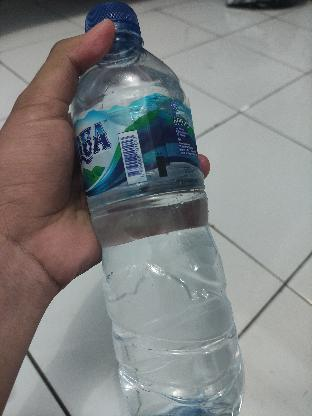Plastic Bottle: (69, 4, 253, 416)
